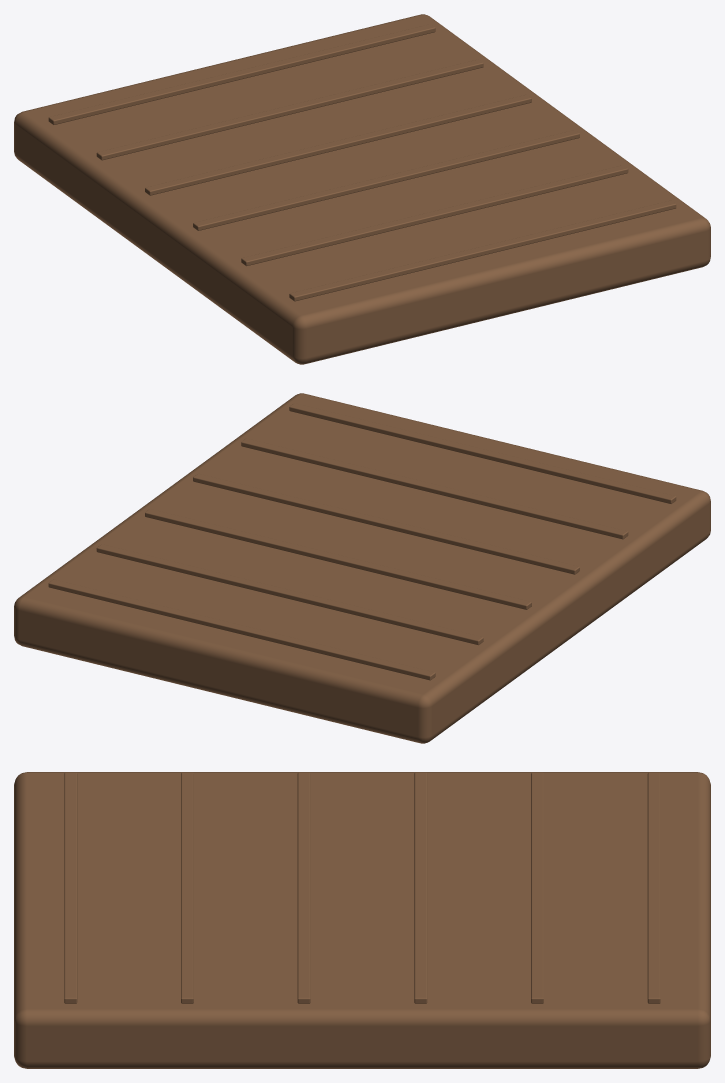
File: chocolate-making-and-confectionery-ganache-slab-1b2e9e5e__39160.glb
3 views of the same model, one above another, from view 1: azimuth 30°, elevation 25°; view 2: azimuth 150°, elevation 25°; view 3: azimuth 270°, elevation 25° (orthographic). The views are drawn at different scales.
Parts seen in each view (by area): view 1: ganache-slab; view 2: ganache-slab; view 3: ganache-slab.
Part boxes in pixels (left/top/right/bottom): ganache-slab: left=14, top=14, right=710, bottom=364; ganache-slab: left=14, top=393, right=710, bottom=743; ganache-slab: left=14, top=772, right=710, bottom=1068.
Size of the model in its own units: 0.36 by 0.044 by 0.43.
